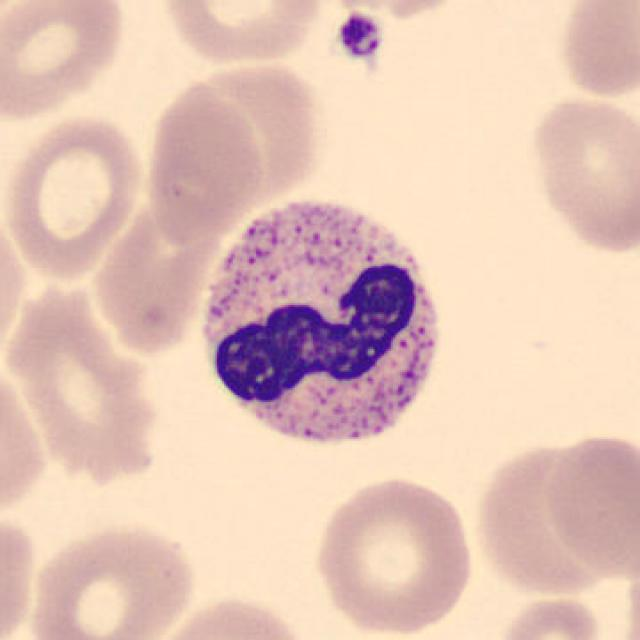Neutrophil: (186, 185, 458, 471)
Platelets: (332, 9, 386, 63)
RBC: (14, 276, 169, 500), (308, 471, 480, 638), (2, 109, 149, 282), (82, 197, 223, 354), (140, 72, 268, 244), (186, 51, 327, 207), (23, 518, 199, 640), (523, 90, 638, 257), (0, 0, 132, 125), (539, 427, 638, 585), (157, 0, 327, 67), (553, 0, 640, 104), (142, 590, 316, 640), (491, 592, 608, 640), (0, 506, 41, 640), (0, 201, 30, 372), (318, 0, 476, 21)
